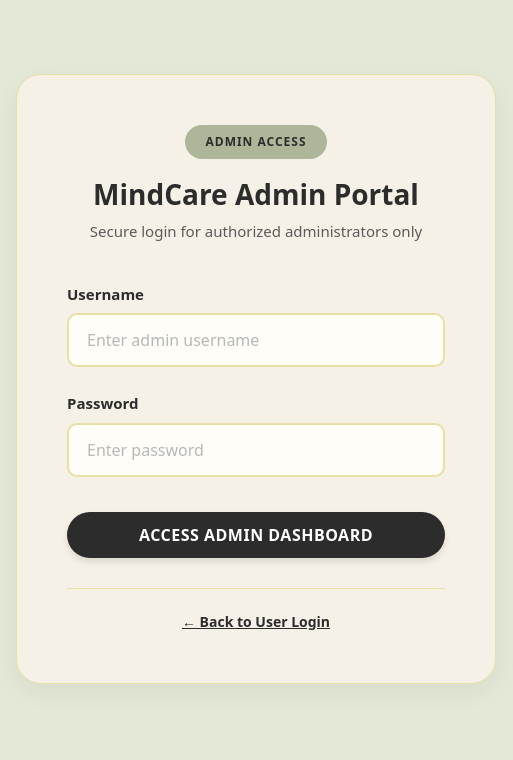
Test: AdminLogin — API errors › shows server error message on non-ok response
Type "x" into the field labelled "Username".
click(256, 340); type("x")  # box [67,313,445,367]
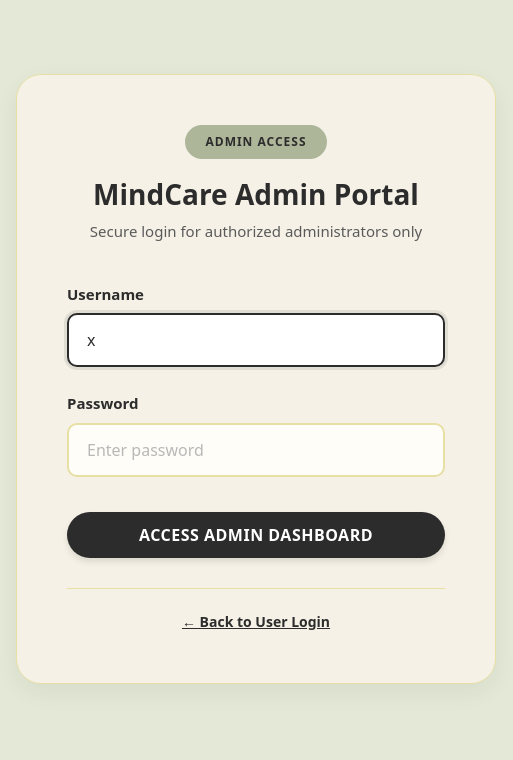
Type "y" into the password field labelled "Password".
click(256, 450); type("y")  # box [67,423,445,477]
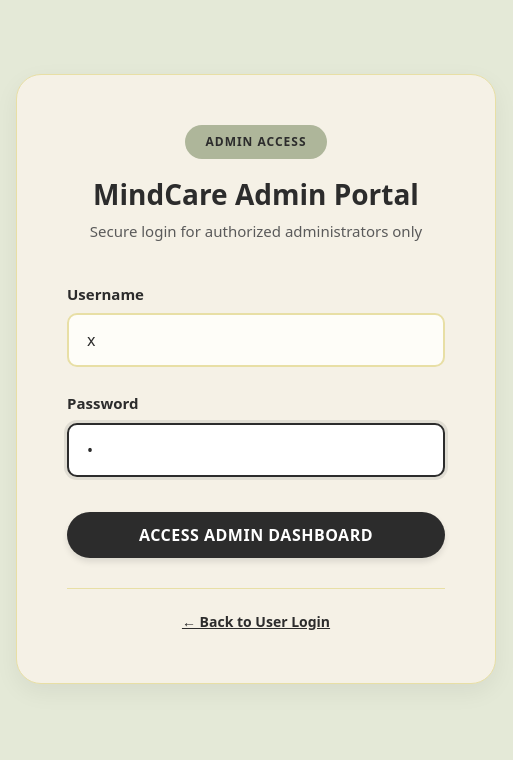
Click the button "Access Admin Dashboard".
click(256, 535)  # box [67,512,445,558]
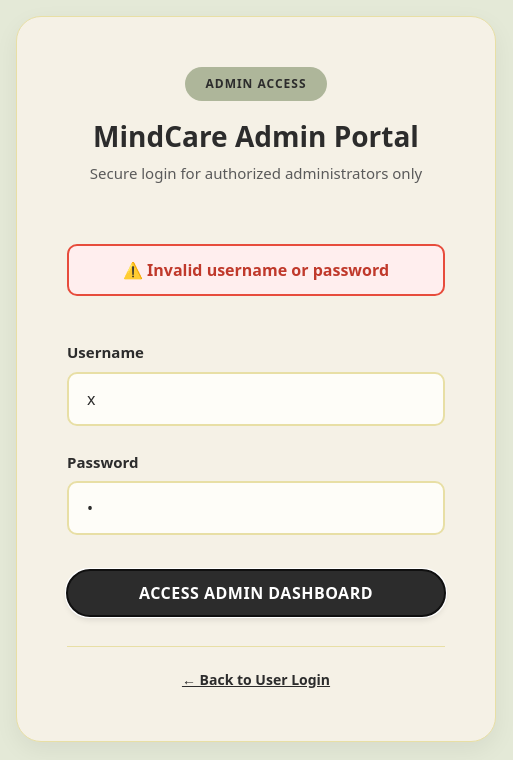
Check: the text "⚠️ Invalid username or password" is shown, box [67,244,445,296]
